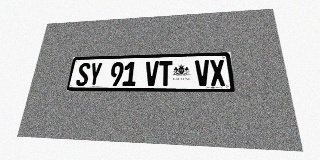1: (122, 62, 137, 86)
9: (109, 62, 124, 86)
S: (75, 63, 91, 86)
T: (159, 61, 172, 86)
V: (195, 60, 210, 86), (145, 61, 159, 86)
X: (209, 59, 226, 86)
Y: (87, 62, 103, 86)
